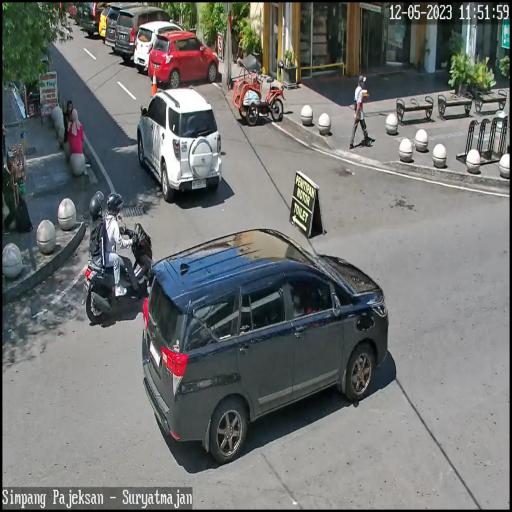mobil: (144, 226, 390, 457), (137, 83, 222, 207), (152, 29, 222, 86), (115, 7, 176, 62), (134, 18, 183, 79)
motor: (84, 224, 153, 325)
